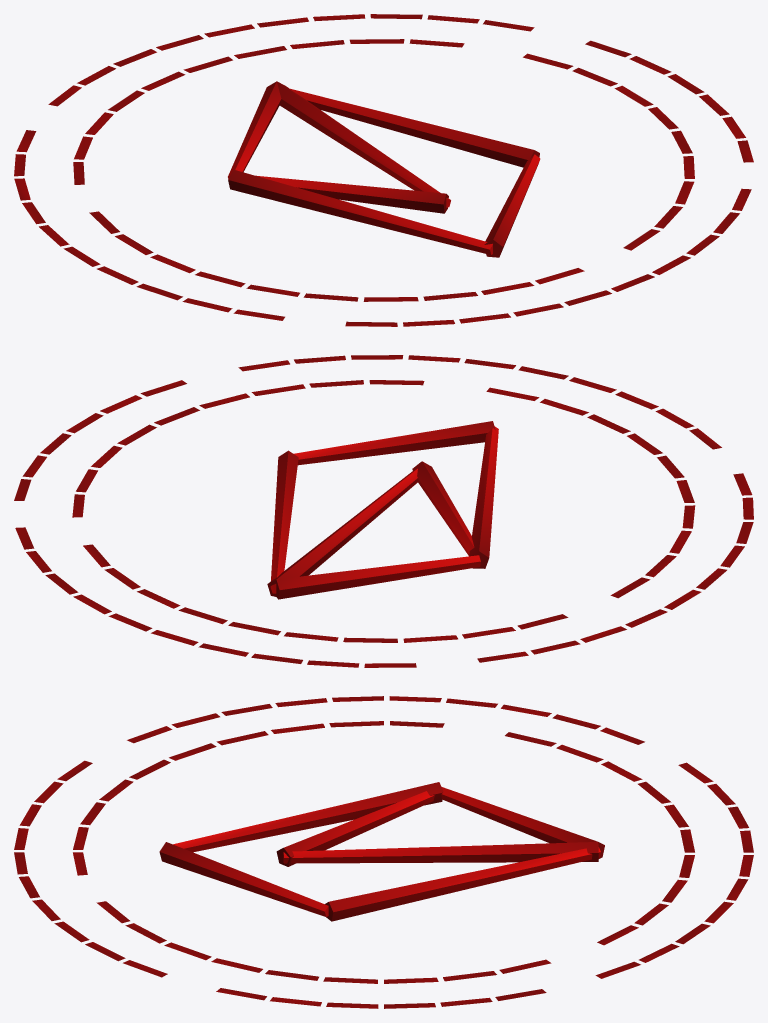
File: AshSeal.fbx
3 views of the same model, one above another, from view 1: azimuth 30°, elevation 25°; view 2: azimuth 150°, elevation 25°; view 3: azimuth 270°, elevation 25° (orthographic).
Visible parts, largest first — view 1: RuinsRune.RuinsRune; view 2: RuinsRune.RuinsRune; view 3: RuinsRune.RuinsRune.
Part boxes in pixels (x1,y1,x2,y2): RuinsRune.RuinsRune: (14, 14, 753, 326); RuinsRune.RuinsRune: (14, 355, 753, 667); RuinsRune.RuinsRune: (14, 696, 753, 1008).
Bounding box in the file's own units: 2.14 × 0.0561 × 2.14.
